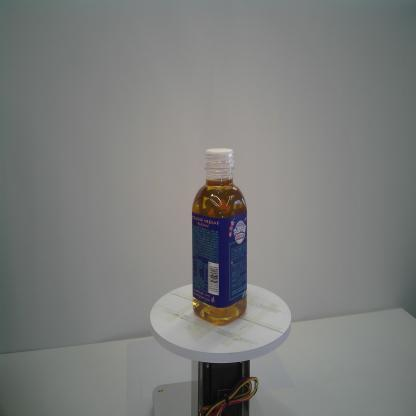Drink: (192, 147, 247, 327)
